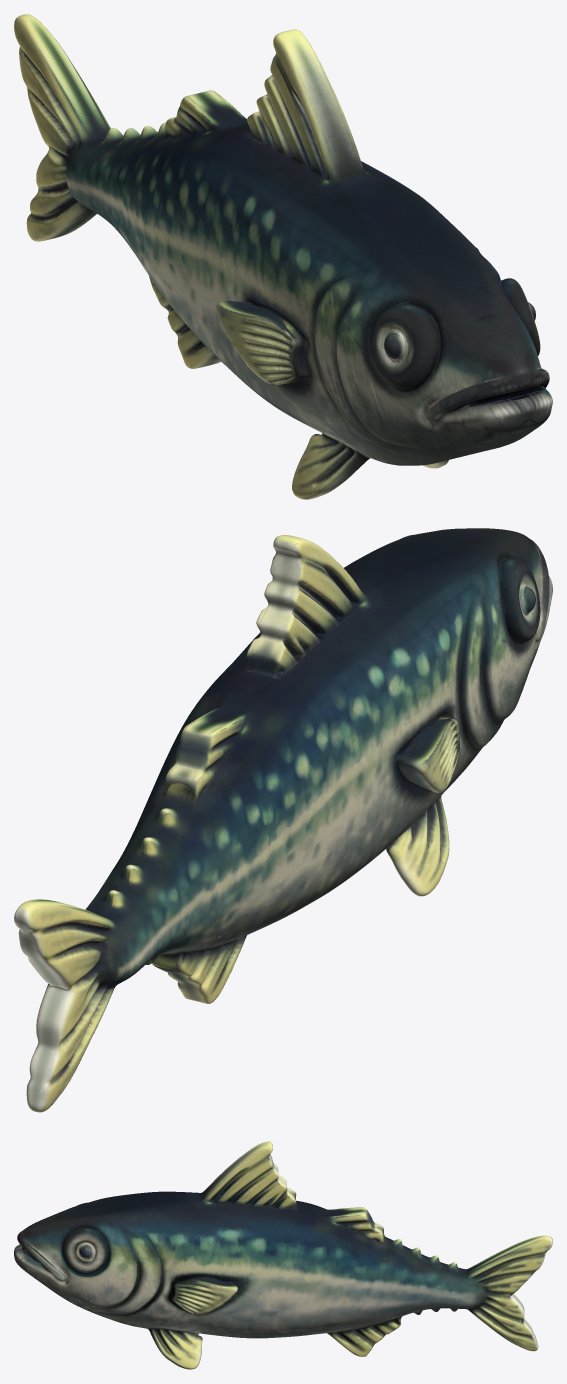
The model's file is Sardine.fbx.
3 renders of one model, top to bottom at view 1: azimuth 30°, elevation 25°; view 2: azimuth 150°, elevation 25°; view 3: azimuth 270°, elevation 25°, orthographic. The views are drawn at different scales.
Parts seen in each view (by area): view 1: Mesh_0; view 2: Mesh_0; view 3: Mesh_0.
Part boxes in pixels (x1,y1,x2,y2): Mesh_0: [14, 14, 552, 499]; Mesh_0: [14, 528, 552, 1112]; Mesh_0: [14, 1141, 552, 1369].
Size of the model in its own units: 44.8 by 81.95 by 190.
Materials: 1 (1 with a texture image).
